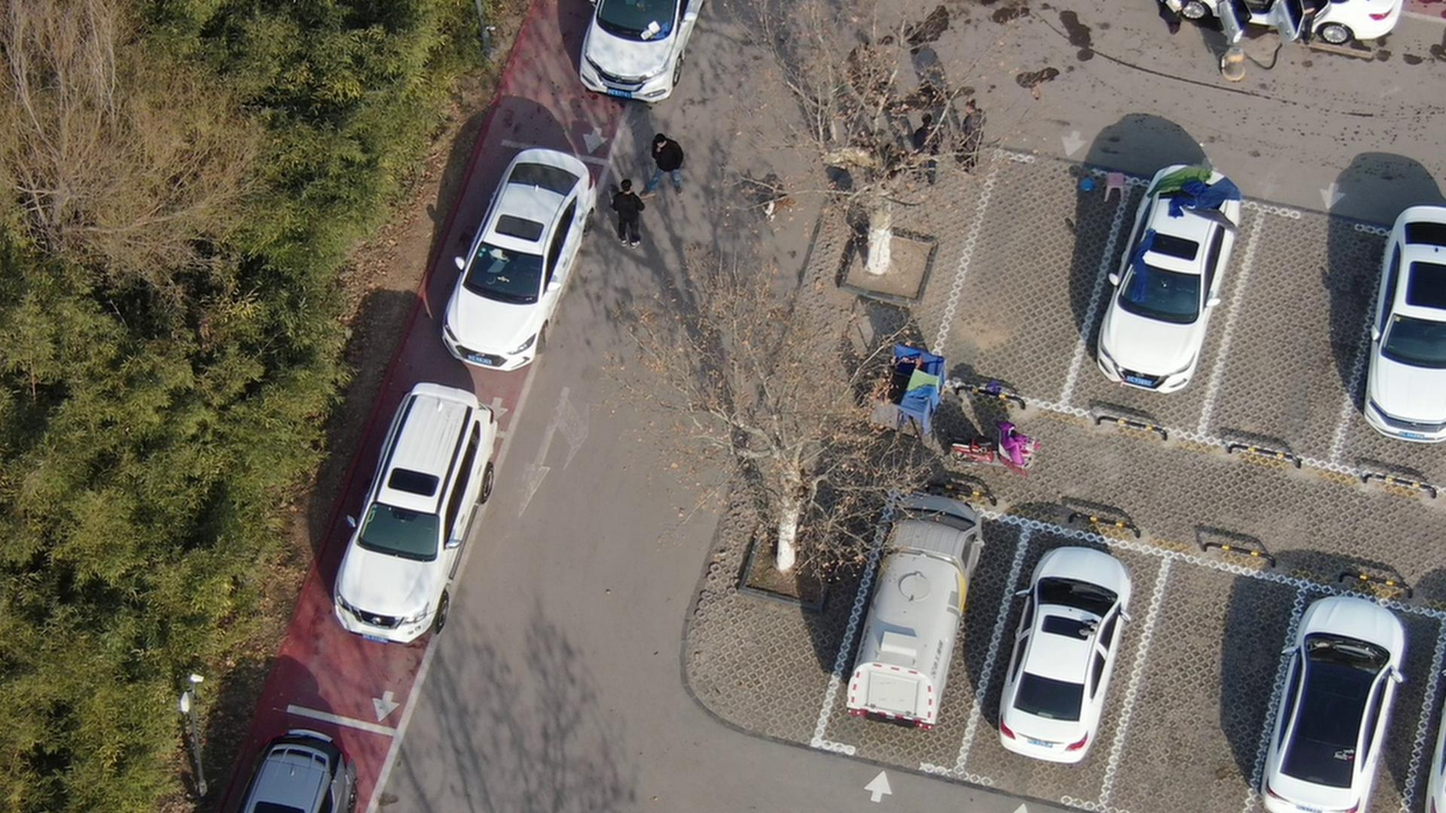human: (961, 92, 1010, 181), (609, 171, 658, 245), (654, 123, 692, 196), (917, 105, 953, 182), (1295, 1, 1320, 50)
